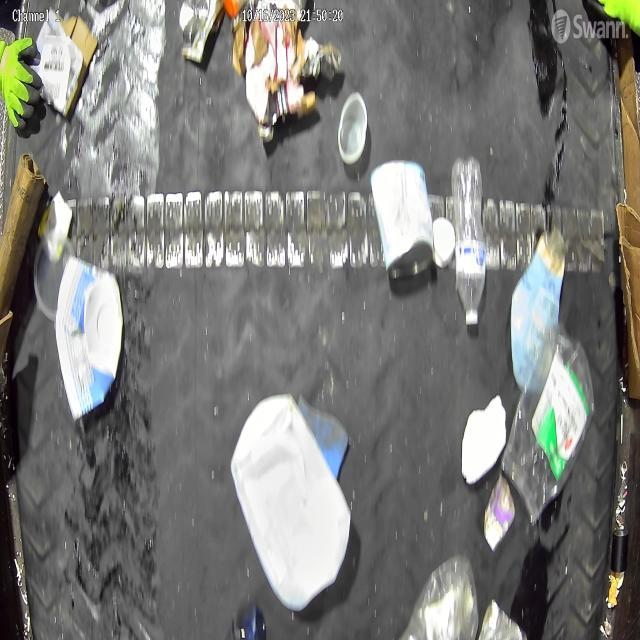can: (369, 154, 434, 284), (476, 598, 529, 640)
milk_jug: (227, 393, 355, 615)
plastic_bottle: (453, 155, 489, 332)
